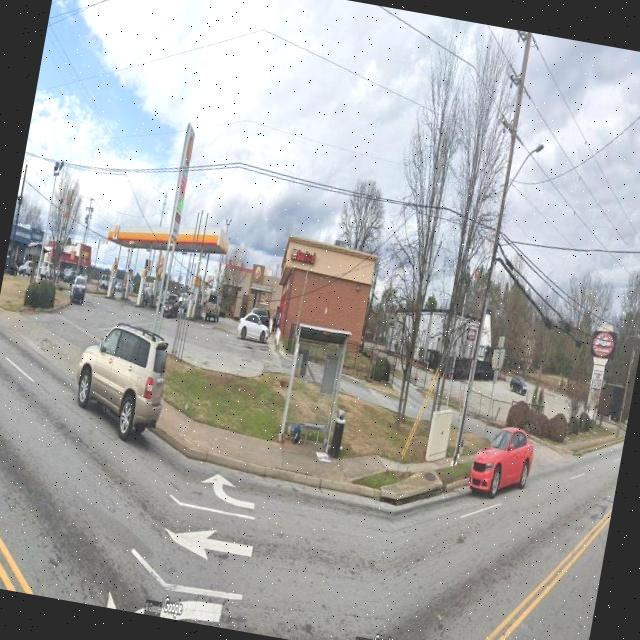seating: (298, 418, 326, 449)
shelter: (277, 322, 352, 452)
trash_can: (328, 409, 346, 459)
